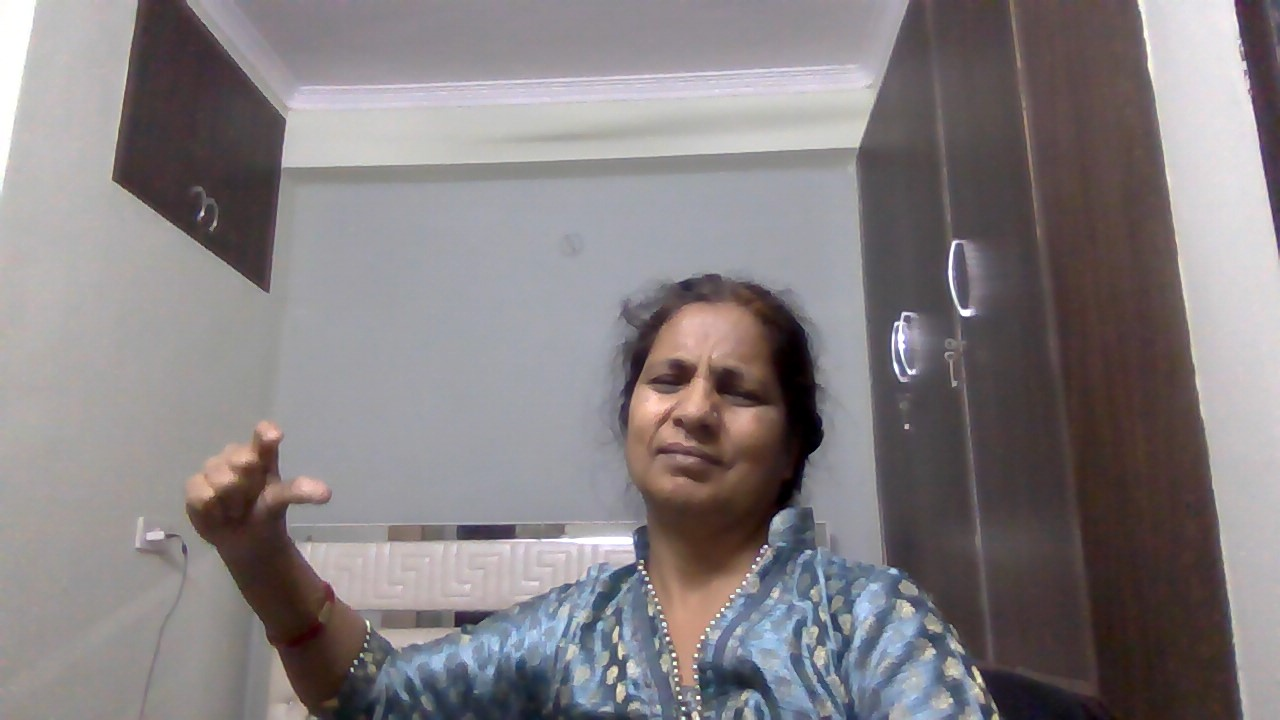Paste: (162, 410, 359, 577)
